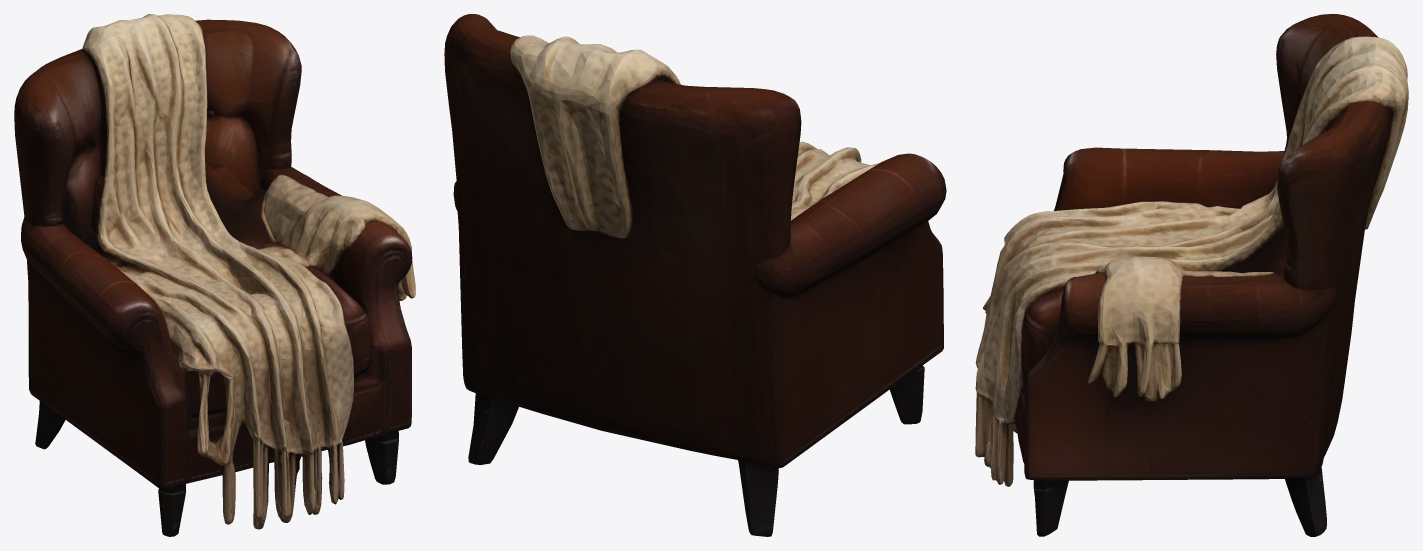
File: webcam_camera_on_stand_black.glb
The picture shows the model from 3 angles, left to right: view 1: azimuth 30°, elevation 25°; view 2: azimuth 150°, elevation 25°; view 3: azimuth 270°, elevation 25°; orthographic projection. The views are drawn at different scales.
Parts seen in each view (by area): view 1: geometry_0; view 2: geometry_0; view 3: geometry_0.
Boxes of the visible parts, x1,y1,x2,y2 form: geometry_0: (14, 14, 415, 536); geometry_0: (444, 14, 946, 536); geometry_0: (975, 14, 1408, 536).
Bounding box in the file's own units: 0.8642 × 0.9974 × 0.9255.
Materials: 1 (1 with a texture image).
